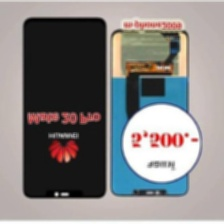phone: (17, 15, 109, 203), (107, 22, 191, 201)
